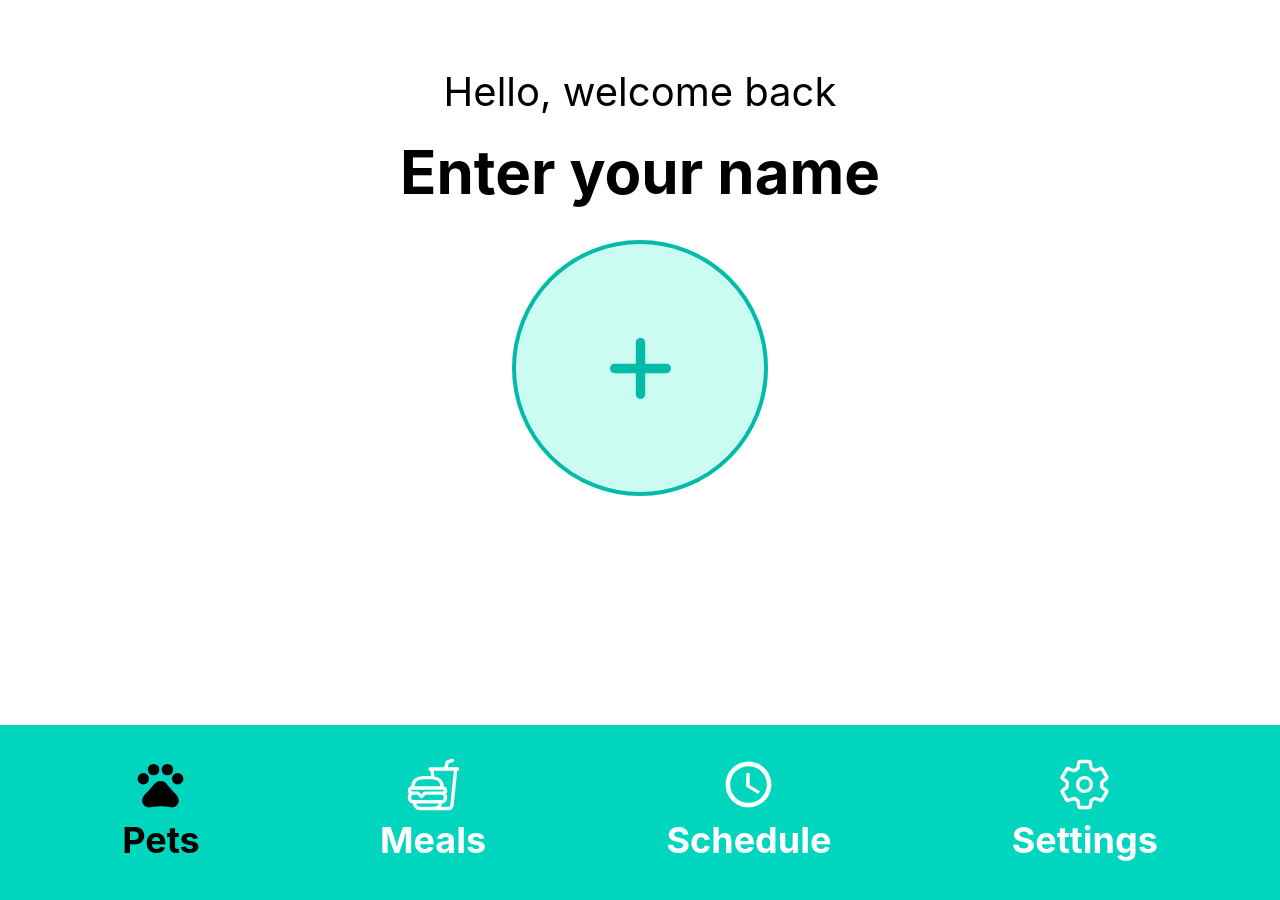
Scenario: App Component › Navigates to main routes correctly
Click the link with test id "meals-btn". click: (433, 812)
box: [380,757,486,868]
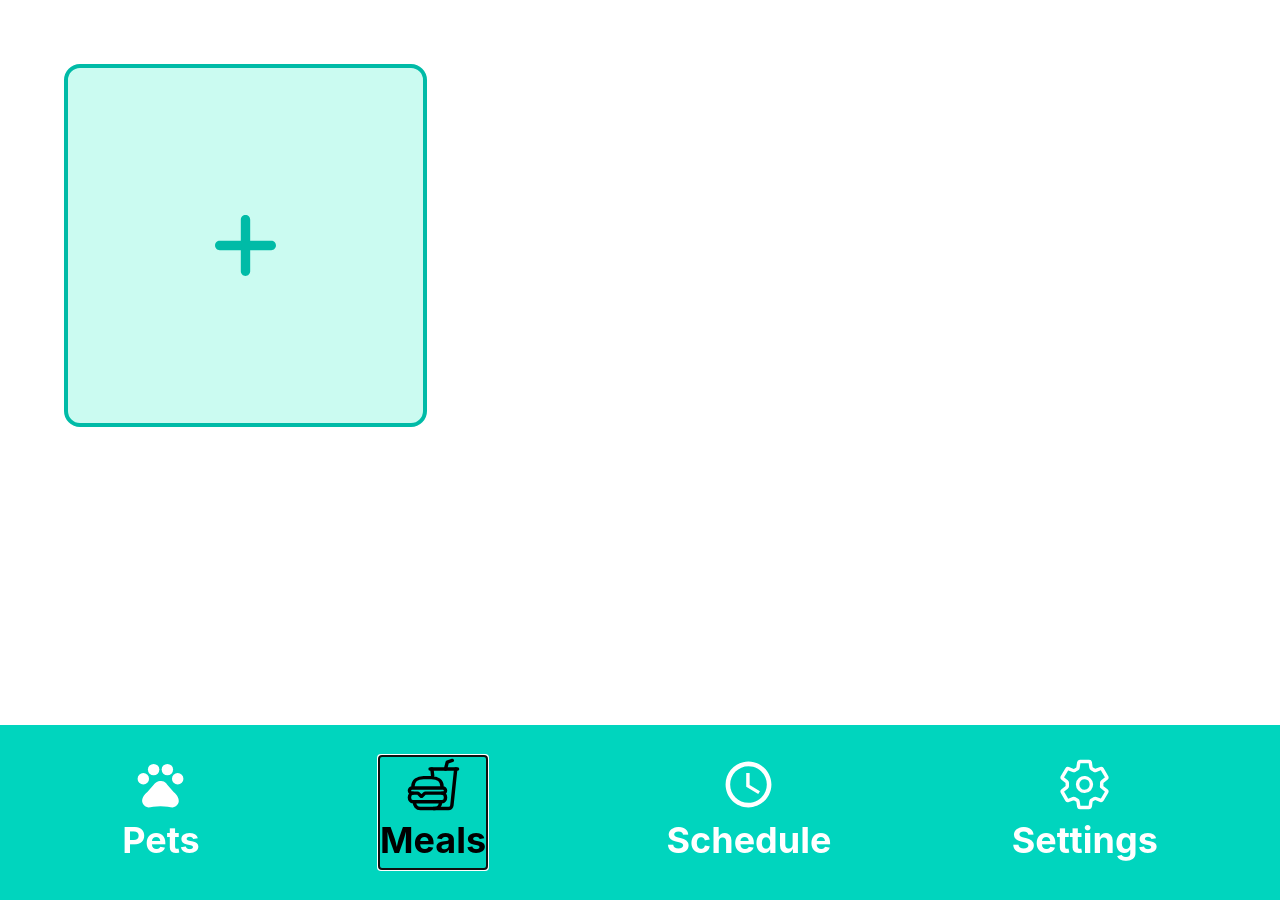
Click the link with test id "schedule-btn". click: (749, 812)
box: [666,757,831,868]
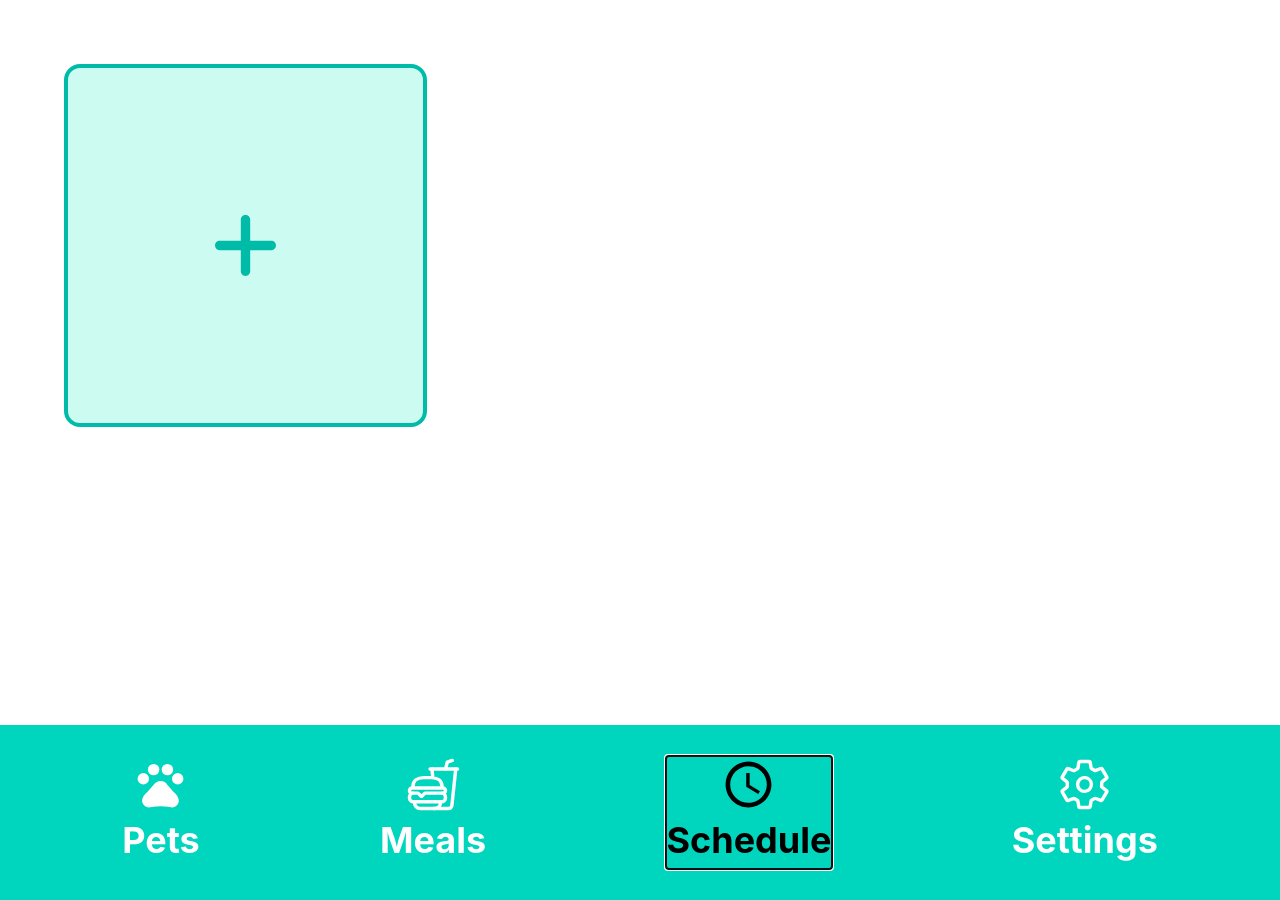
Click the link with test id "settings-btn". click: (1085, 812)
box: [1012,757,1158,868]
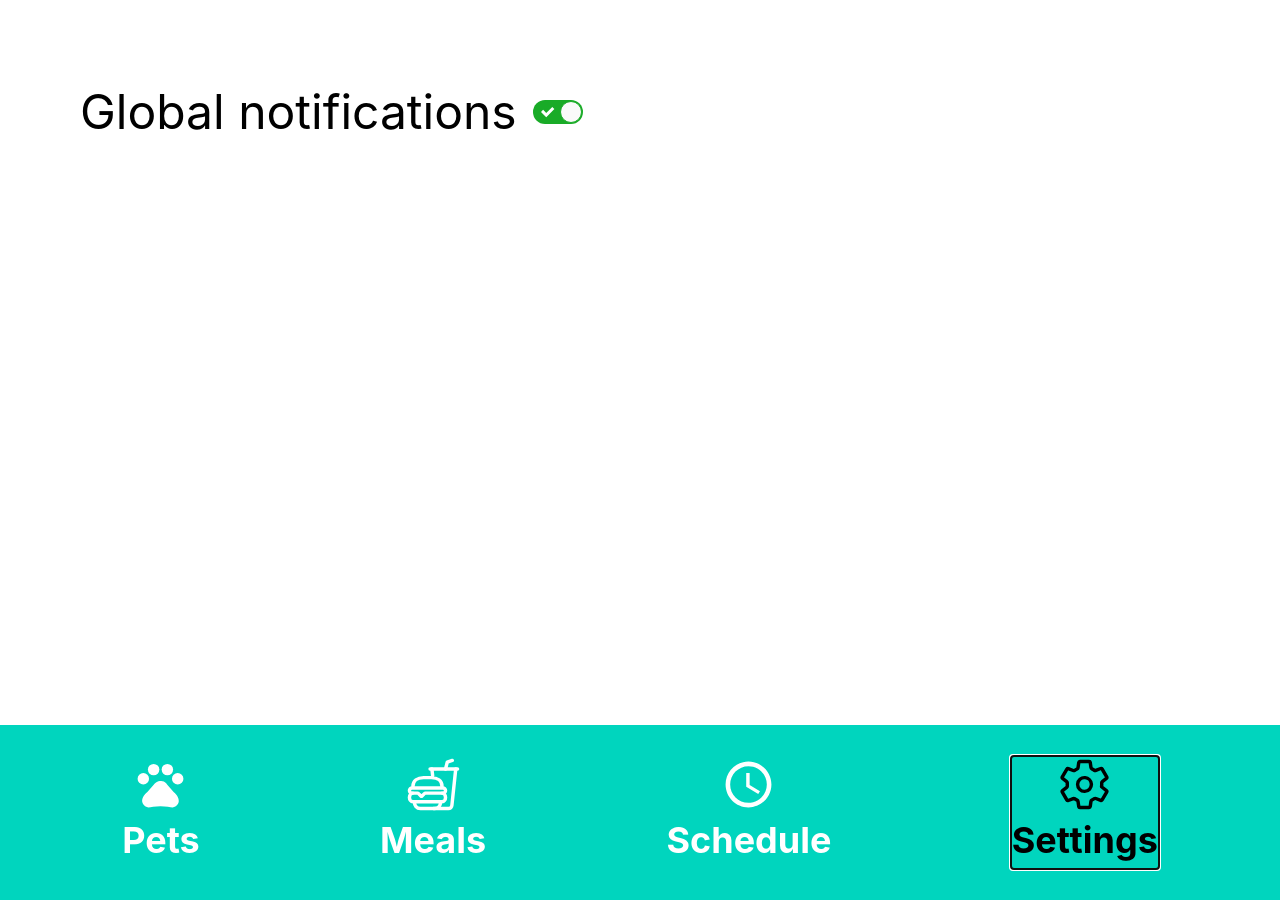
Click the link with test id "pets-btn". click: (161, 812)
box: [122,757,200,868]
(page scrolled)
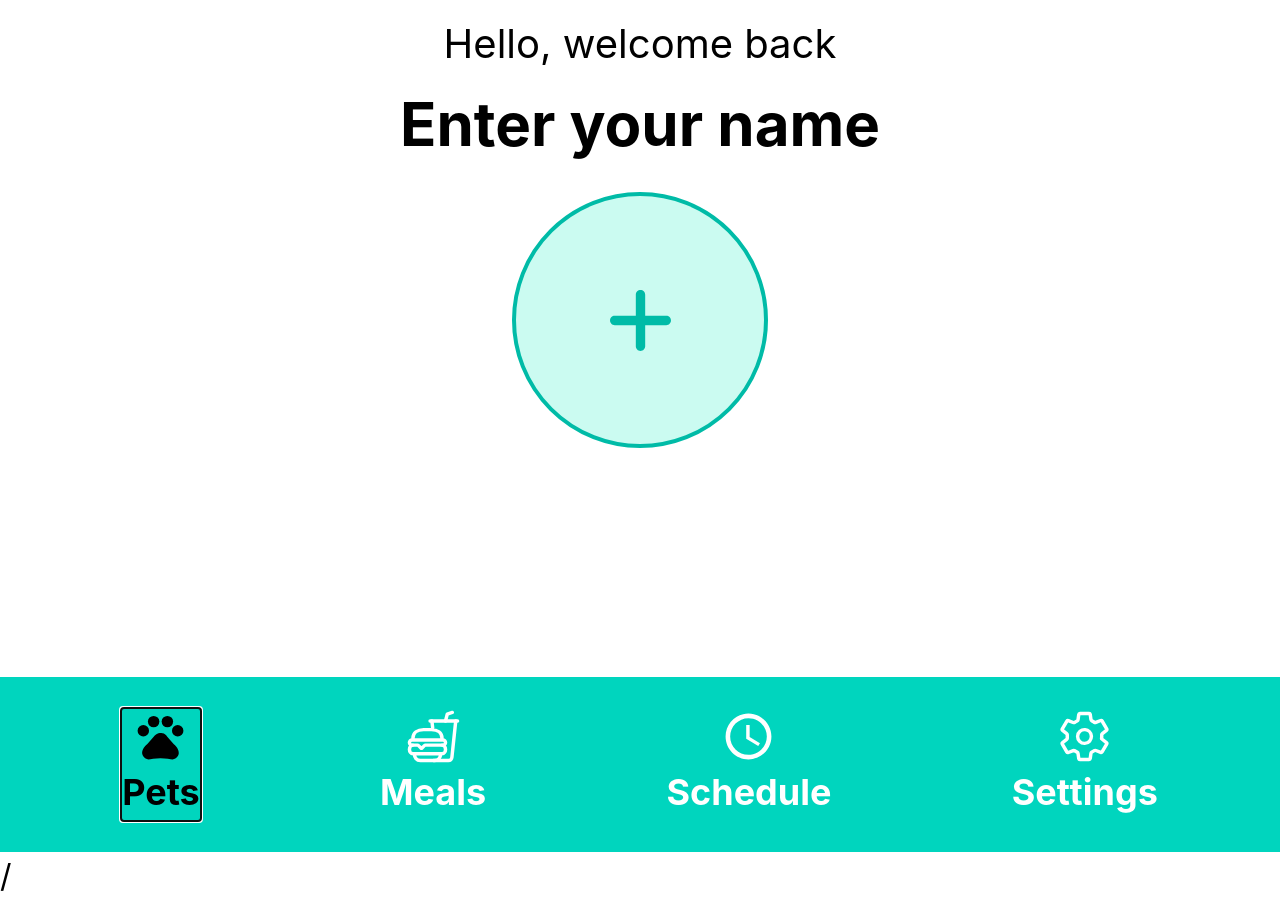
Expected: the text with test id "current-route" reads "/", [0,856,12,895]
